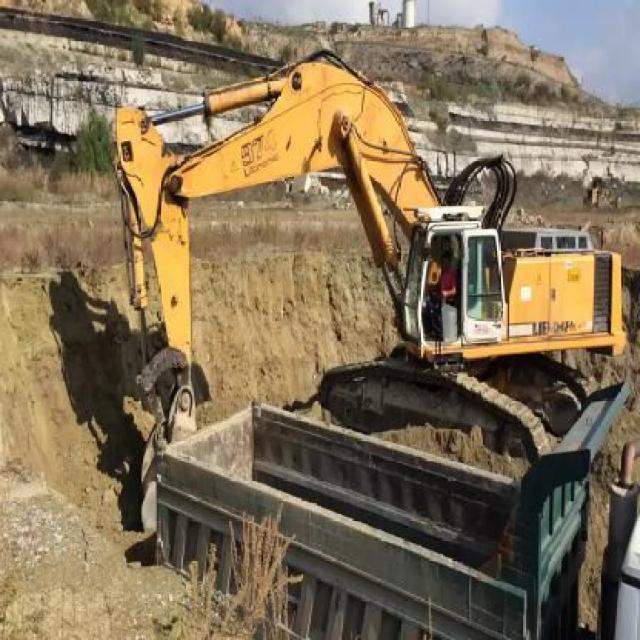Dump Truck: (157, 380, 640, 634)
Excavator: (107, 55, 621, 457)
